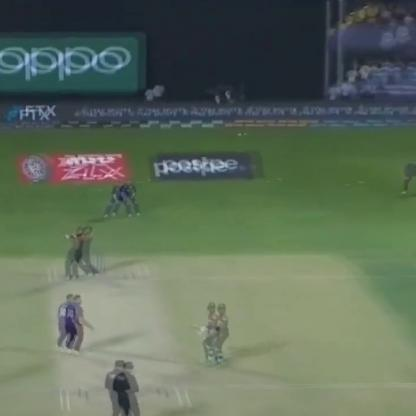ball: (233, 132, 241, 139)
pitch: (34, 264, 188, 416)
